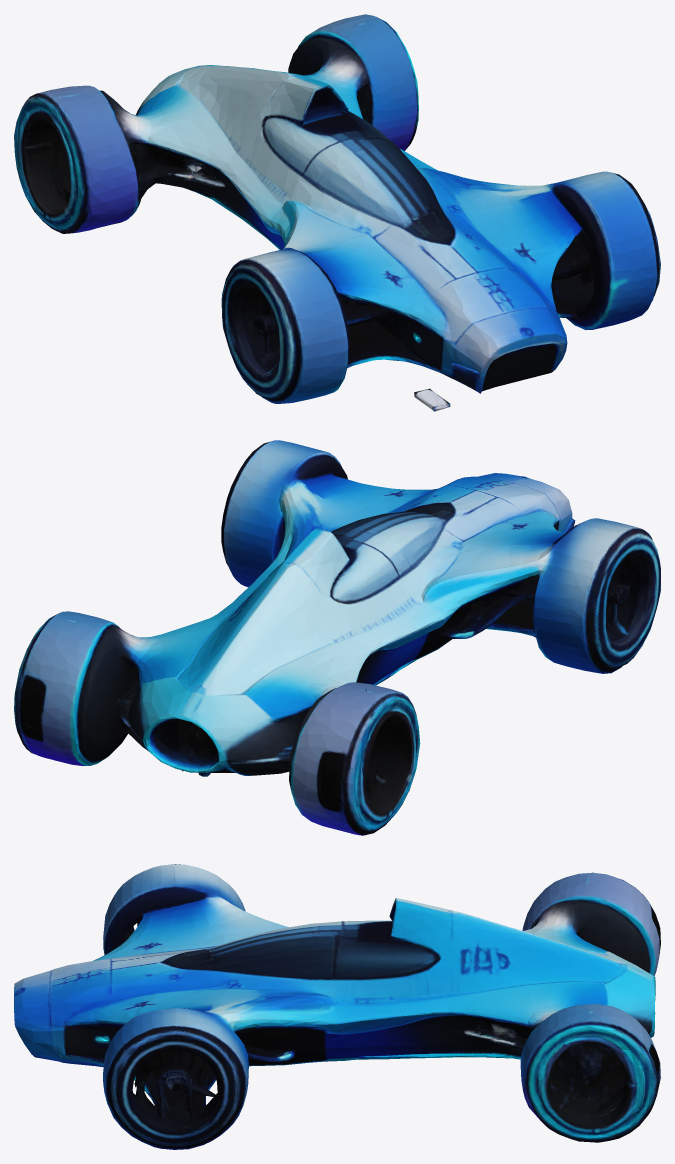
Rendered from blizzardexe-kart.glb.
3 renders of one model, top to bottom at view 1: azimuth 30°, elevation 25°; view 2: azimuth 150°, elevation 25°; view 3: azimuth 270°, elevation 25°, orthographic. The views are drawn at different scales.
Visible parts, largest first — view 1: world; view 2: world; view 3: world.
Part boxes in pixels (x1,y1,x2,y2): world: (14,14,660,411); world: (14,440,660,835); world: (14,864,660,1149).
Size of the model in its own units: 0.625 by 0.2906 by 0.9996.
1 material, 1 textured.
